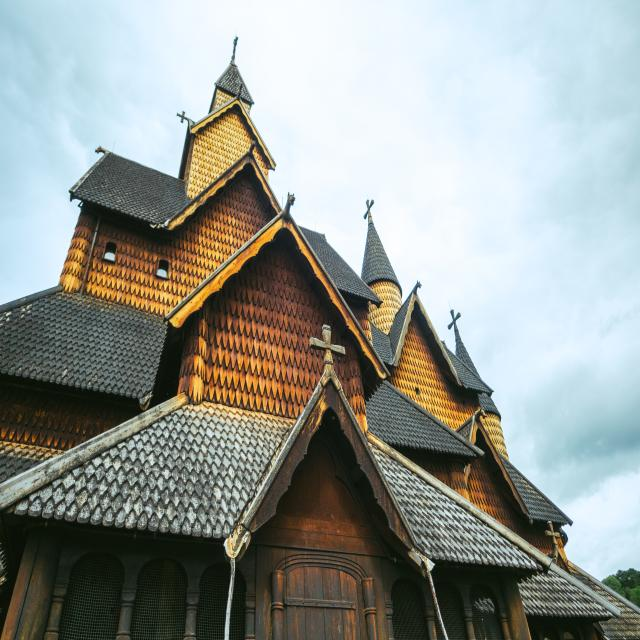building: (1, 30, 636, 640)
